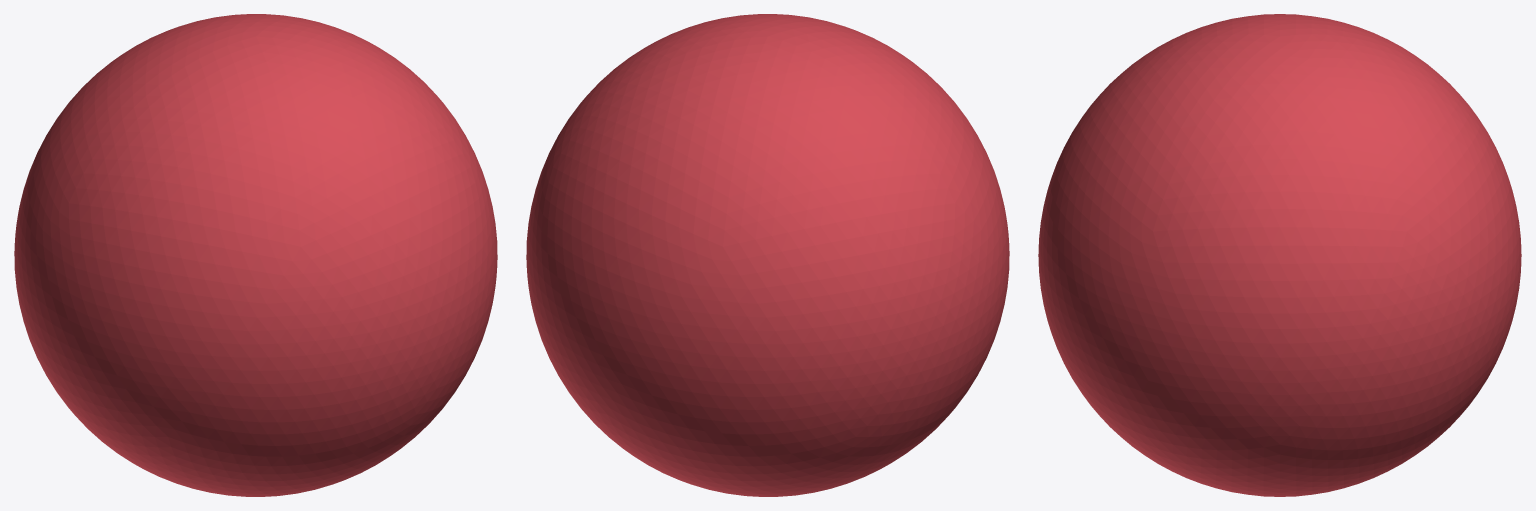
Rendered from Hydrogen.gltf.
3 views of the same model, side by side, from view 1: azimuth 30°, elevation 25°; view 2: azimuth 150°, elevation 25°; view 3: azimuth 270°, elevation 25° (orthographic).
Bounding box in the file's own units: 0.04 × 0.04 × 0.04.
